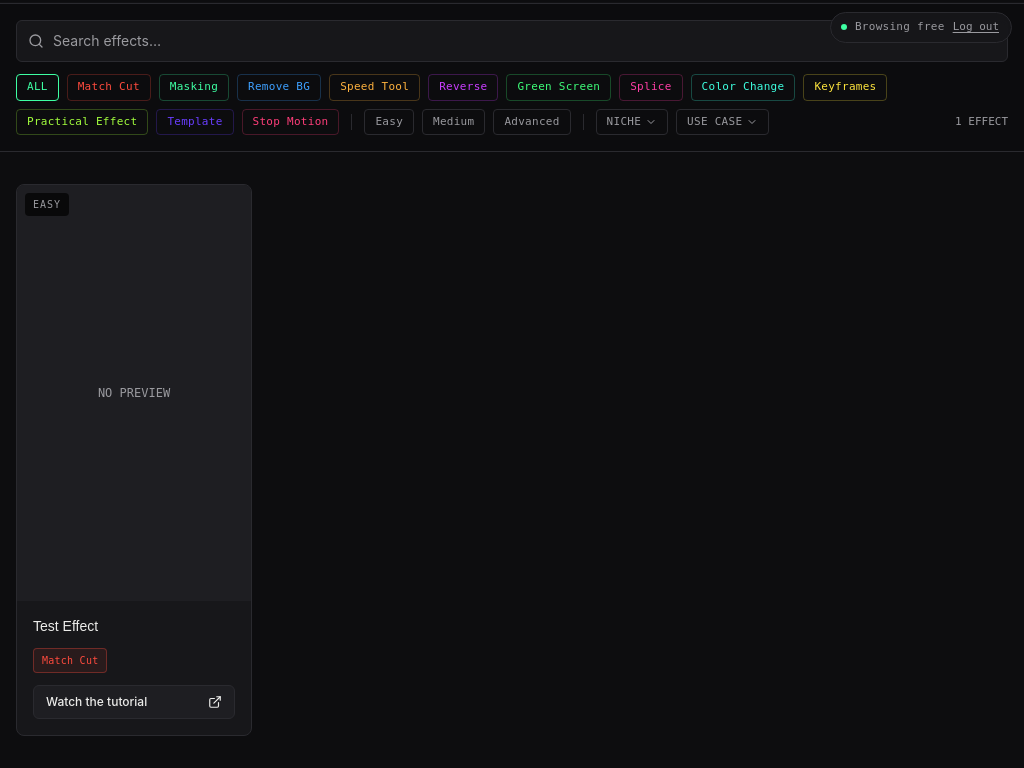
Test case: status badges (real App, real localStorage) › shows "Unlocked" once a purchase is verified, and logging out removes just that badge
The image size is (1024, 768).
(page scrolled)
Click the link "Watch the tutorial" at (134, 702), box top-left (33, 685), bottom-right (235, 719)
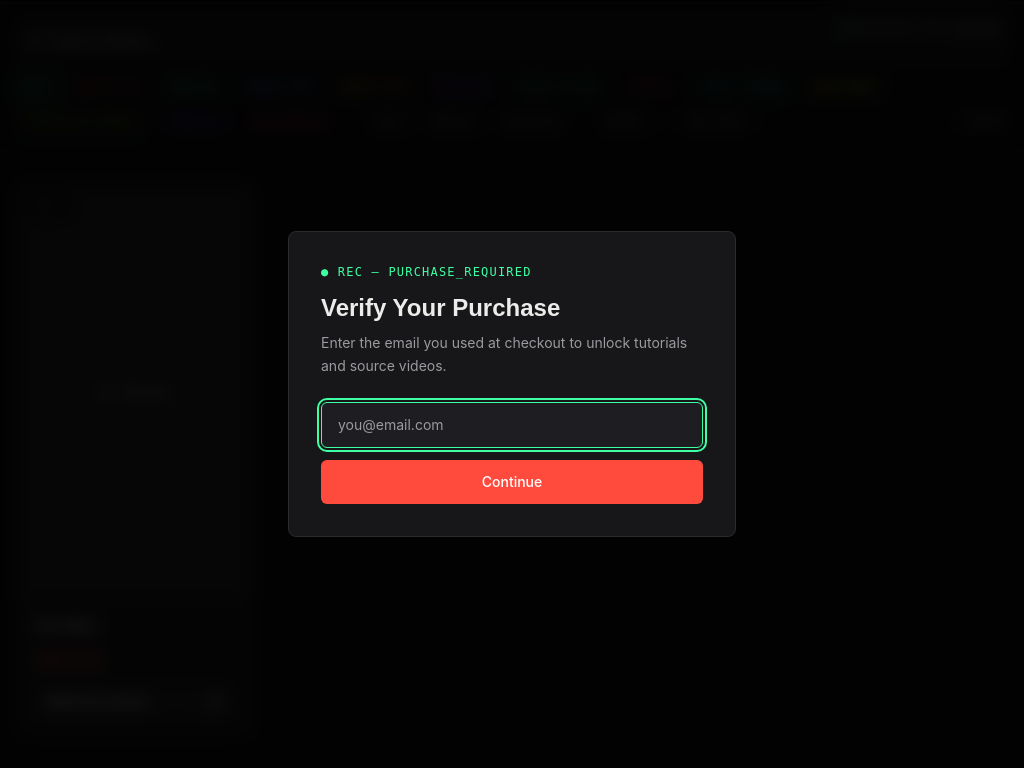
Type "buyer@example.com" into the field with placeholder "you@email.com" at (512, 425), box top-left (321, 402), bottom-right (703, 448)
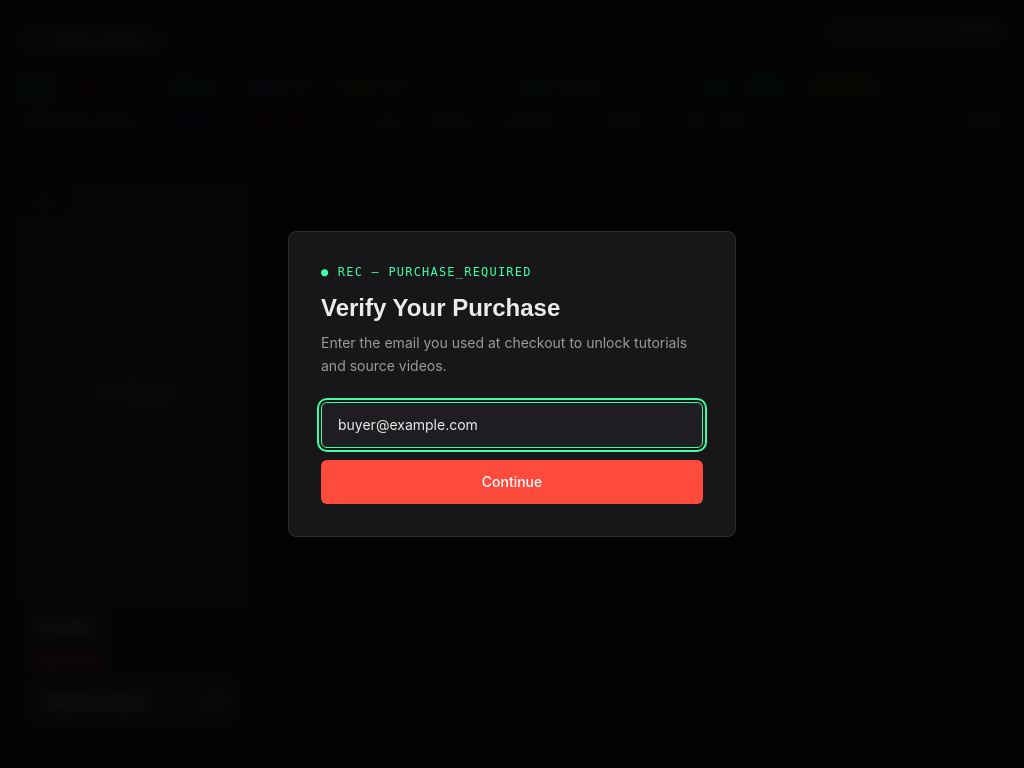
Click the button "Continue" at (512, 482), box top-left (321, 460), bottom-right (703, 504)
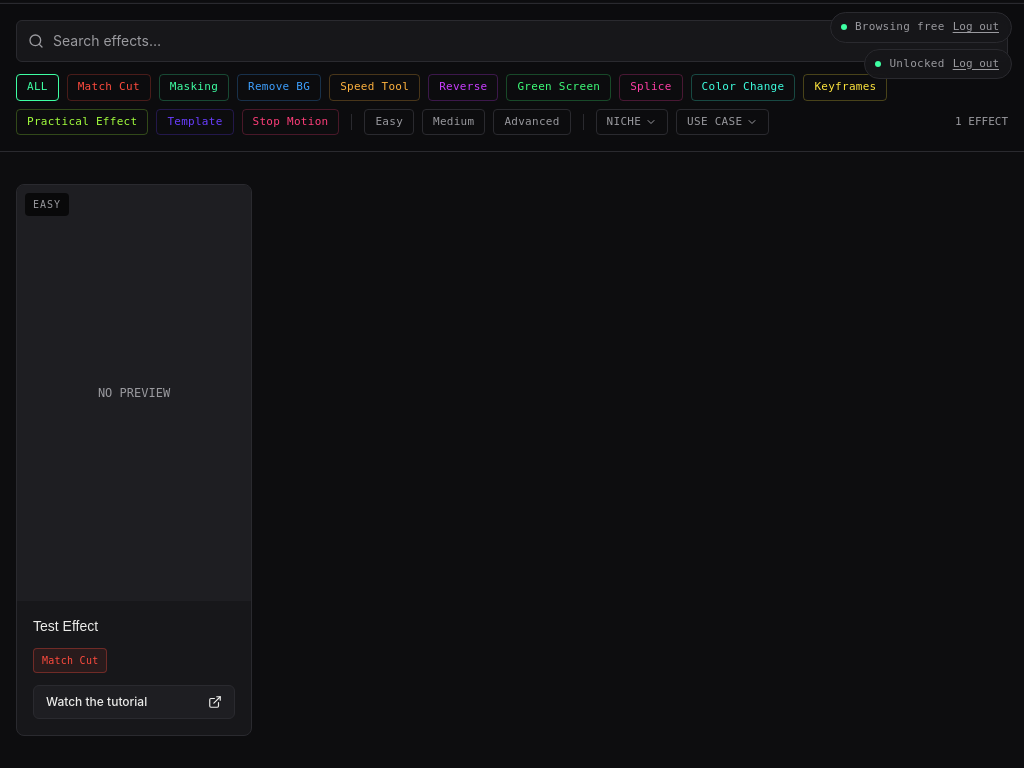
Check: the text "Browsing free" is shown, box top-left (855, 19), bottom-right (945, 36)
Check: the text "Unlocked" is shown, box top-left (890, 56), bottom-right (945, 72)
Click the button "Log out" next to "Unlocked" at (976, 64), box top-left (953, 56), bottom-right (999, 72)
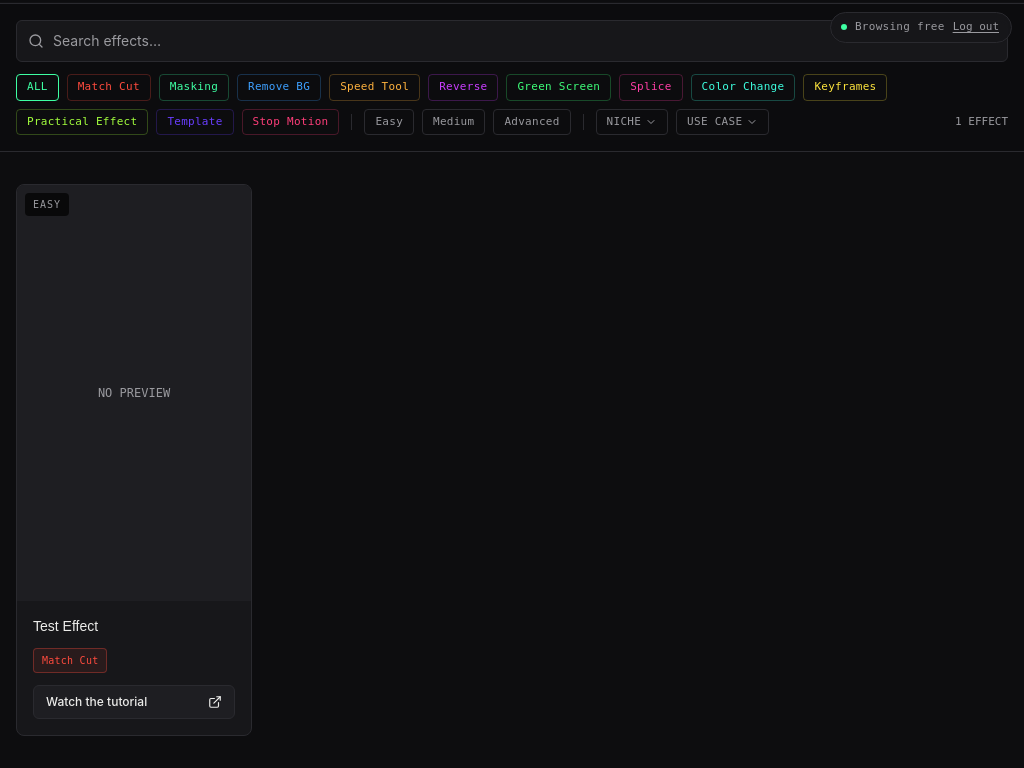
Check: the text "Browsing free" is shown, box top-left (855, 19), bottom-right (945, 36)
Check: the text "Unlocked" is gone
